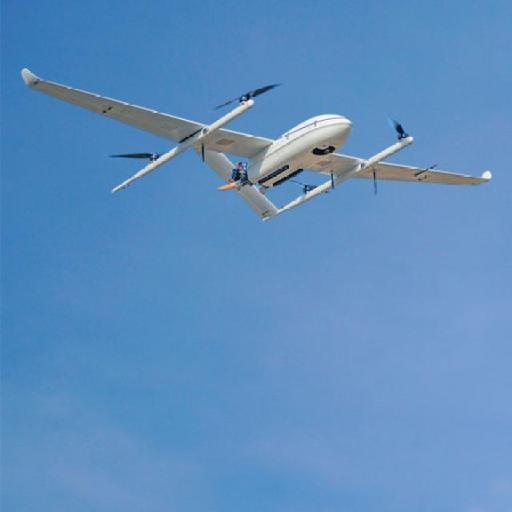uav: (18, 56, 494, 218)
